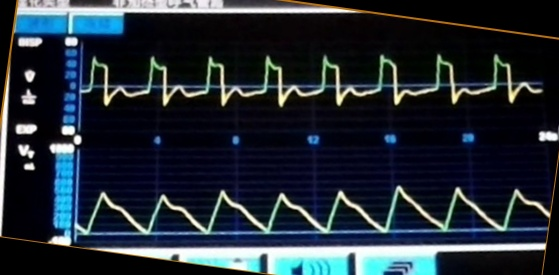Premature_cycling Flow: (83, 42, 542, 124)
Premature_cycling Volume: (79, 168, 545, 240)
